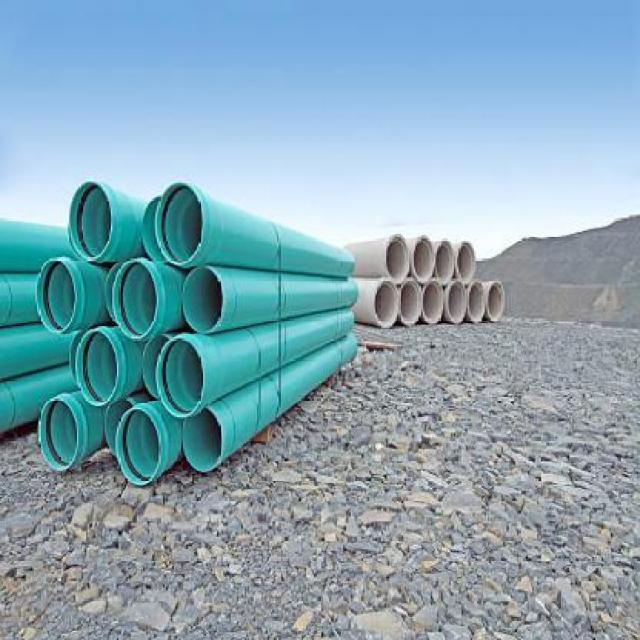pipe: (154, 182, 203, 267), (155, 337, 204, 419), (112, 261, 158, 340), (68, 182, 113, 261), (76, 328, 119, 407), (116, 409, 159, 486), (36, 258, 76, 334), (39, 398, 79, 471), (183, 268, 223, 333), (183, 407, 223, 472), (374, 280, 399, 329), (385, 234, 410, 282), (399, 278, 422, 326), (413, 235, 435, 283), (422, 281, 444, 324), (435, 239, 455, 284), (456, 240, 476, 285), (447, 279, 467, 324), (467, 280, 485, 322), (487, 281, 505, 323)
